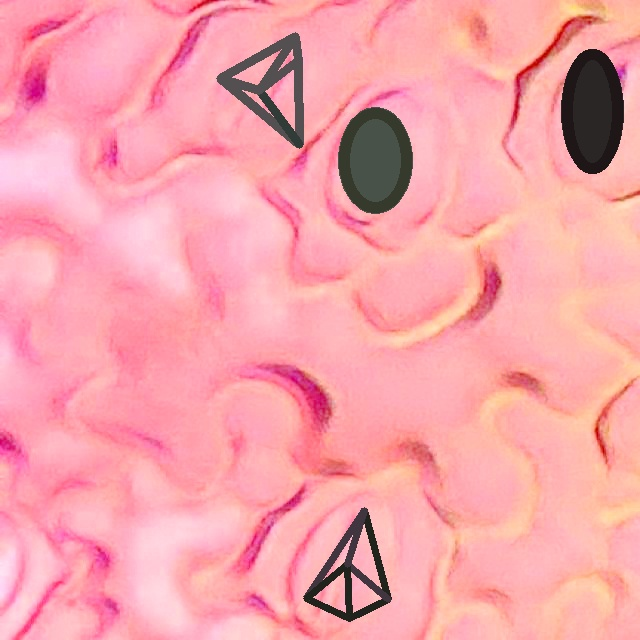close: (303, 508, 391, 620), (217, 32, 301, 147)
open: (338, 106, 412, 213), (560, 49, 623, 173)
